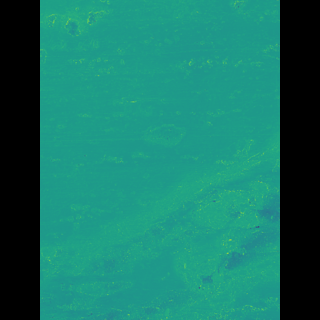Loch: (69, 132, 248, 320)
